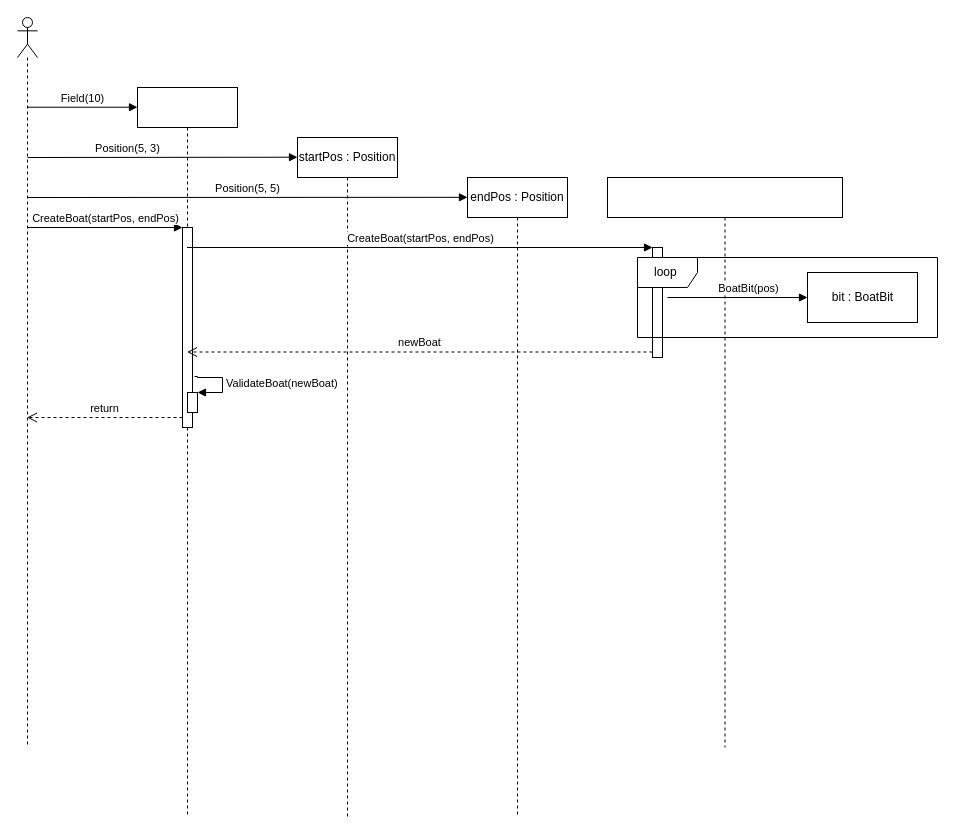
This 955x835 diagram has some shape labels left out. Here are the shapes that lost their labels. From the top down, the box of each, then its label:
(136, 86, 238, 818): field : Field
(606, 176, 842, 748): newBoat : Boat
